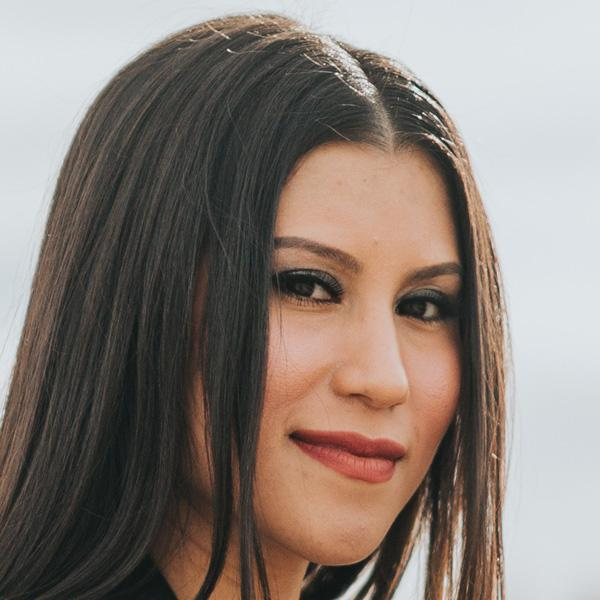Eyes: (265, 256, 351, 314), (387, 276, 456, 332)
